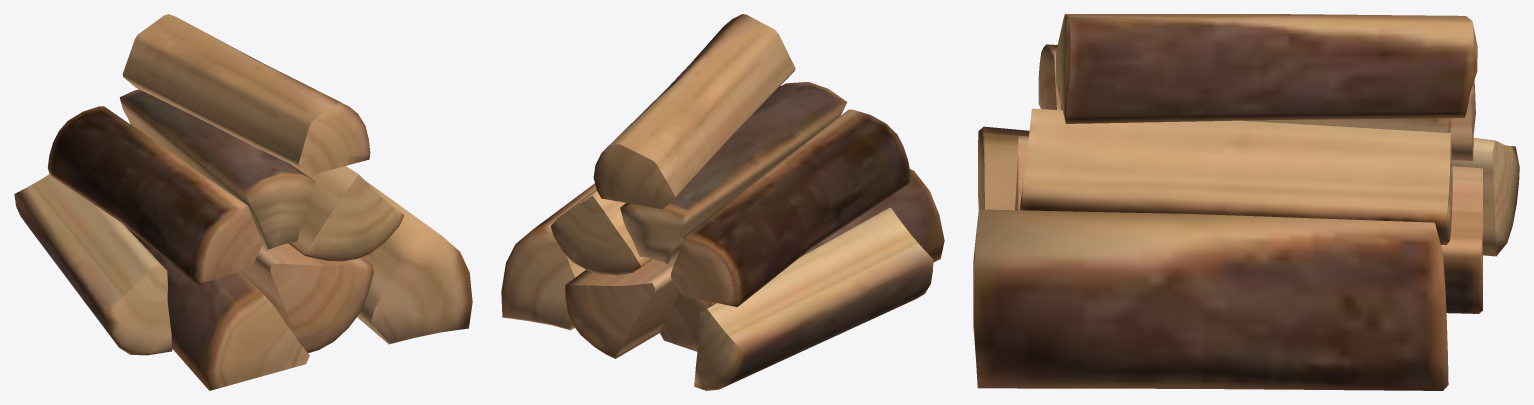
File: firewood.glb
The picture shows the model from 3 angles, left to right: view 1: azimuth 30°, elevation 25°; view 2: azimuth 150°, elevation 25°; view 3: azimuth 270°, elevation 25°; orthographic projection. The views are drawn at different scales.
Size of the model in its own units: 6.24 by 4.32 by 6.93.
Materials: 1 (1 with a texture image).
